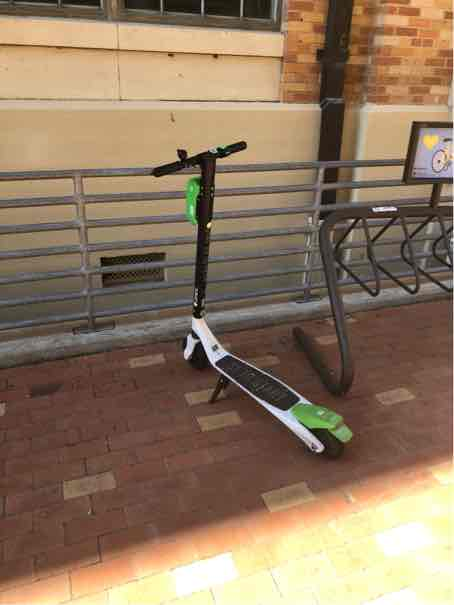scooter: (140, 126, 357, 472)
